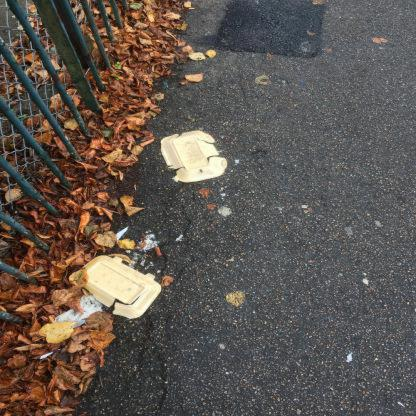Plastic container: (79, 256, 161, 319), (160, 131, 227, 183)
Unlabeled litter: (55, 295, 104, 328)
